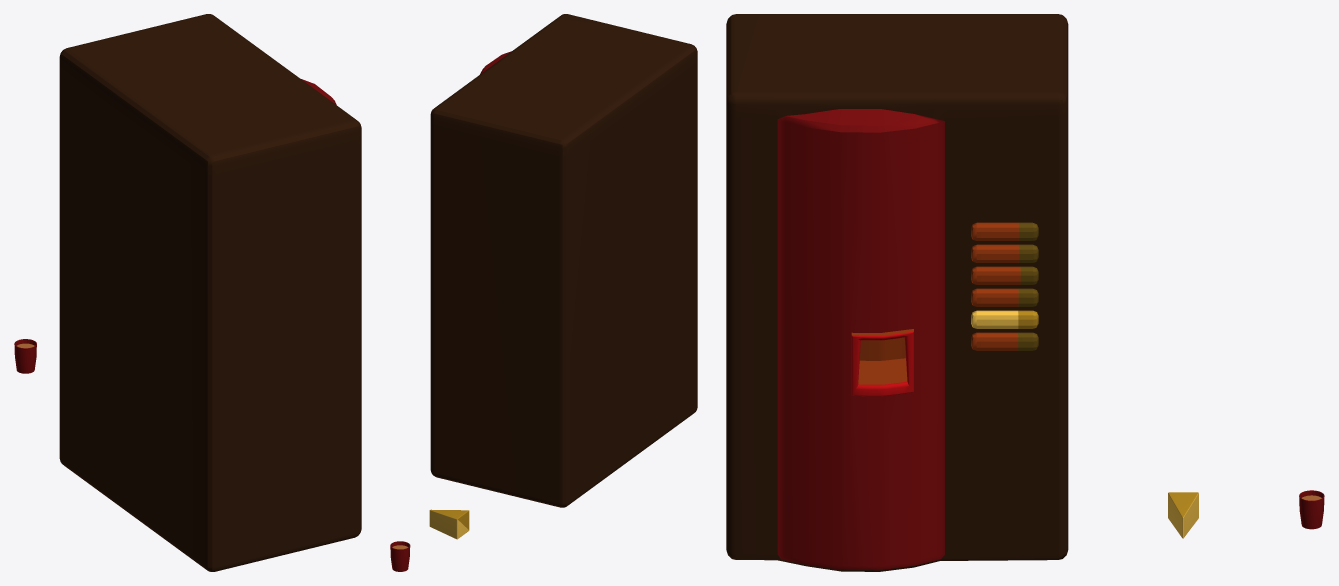
File: Cositas.fbx
The picture shows the model from 3 angles, left to right: view 1: azimuth 30°, elevation 25°; view 2: azimuth 150°, elevation 25°; view 3: azimuth 270°, elevation 25°; orthographic projection. The views are drawn at different scales.
Parts seen in each view (by area): view 1: MaquinaCafe, pCylinder1; view 2: MaquinaCafe, queso, pCylinder1; view 3: MaquinaCafe, BotonesMaquina, polySurface5, queso, pCylinder1.
Boxes of the visible parts, left/top/right/bottom form: MaquinaCafe: left=59, top=14, right=361, bottom=571; pCylinder1: left=14, top=339, right=36, bottom=373; MaquinaCafe: left=430, top=14, right=697, bottom=507; queso: left=429, top=509, right=469, bottom=539; pCylinder1: left=390, top=541, right=410, bottom=571; MaquinaCafe: left=726, top=14, right=1068, bottom=571; BotonesMaquina: left=971, top=222, right=1038, bottom=350; polySurface5: left=851, top=329, right=913, bottom=396; queso: left=1168, top=492, right=1198, bottom=538; pCylinder1: left=1299, top=490, right=1324, bottom=529.
Bounding box in the file's own units: 118 × 258 × 296.
1 material, 1 textured.
